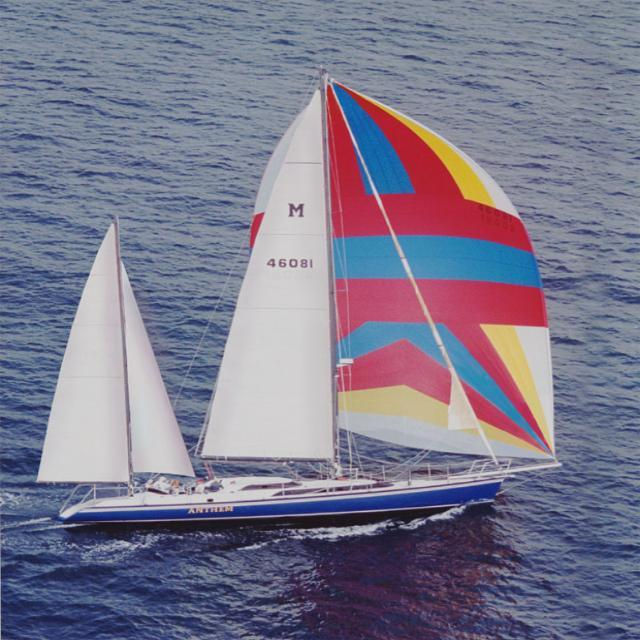Ship: (29, 85, 573, 539)
